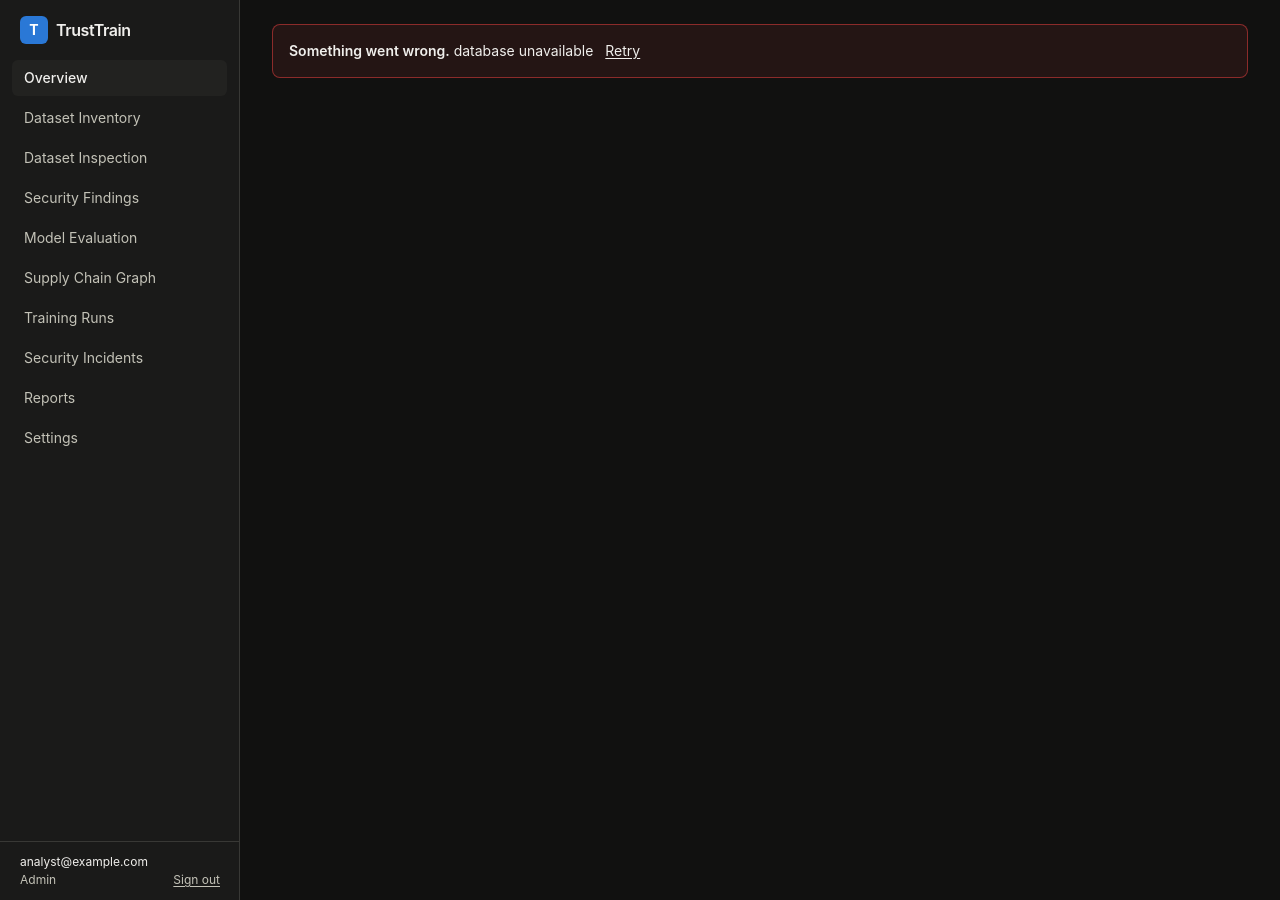
overview dashboard › shows an error state and retries
The image size is (1280, 900).
Expected: the message shows "database unavailable", [454,42,593,59]
Click the button "Retry" at (623, 51), box [605,41,640,61]
(page scrolled)
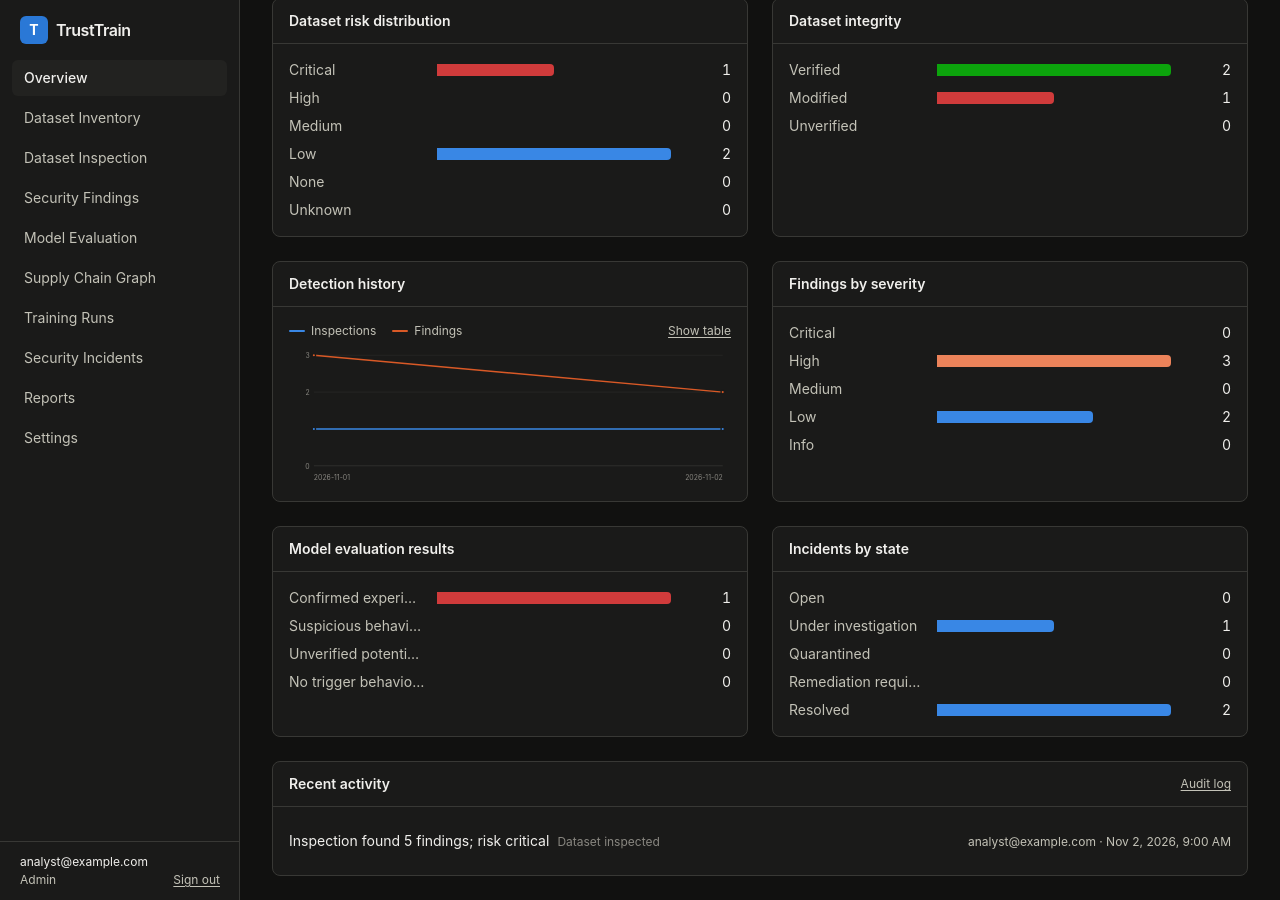
Now the text "Inspection found 5 findings; risk critical" is shown, box [289,832,549,849]
